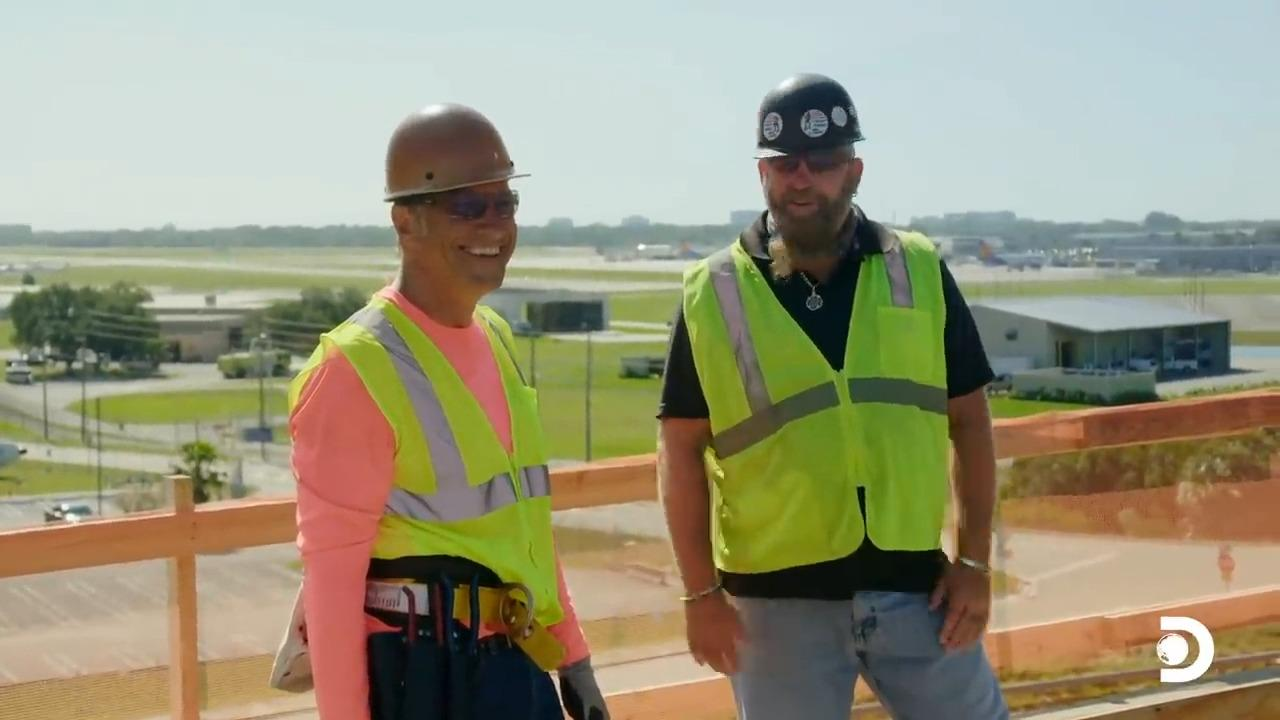Gloves: (559, 655, 622, 720)
Helmet: (382, 101, 531, 202), (752, 71, 865, 159)
Person: (654, 71, 1010, 719), (286, 101, 610, 719)
Safety Vest: (690, 272, 970, 550), (347, 343, 550, 590)
bare-arms: (931, 547, 1012, 643), (682, 581, 755, 681)
